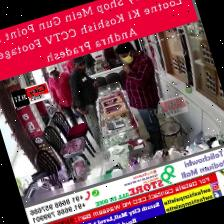person: (115, 43, 161, 150), (68, 57, 100, 148), (46, 65, 85, 126), (103, 48, 117, 68), (83, 55, 95, 75), (64, 58, 76, 74)
